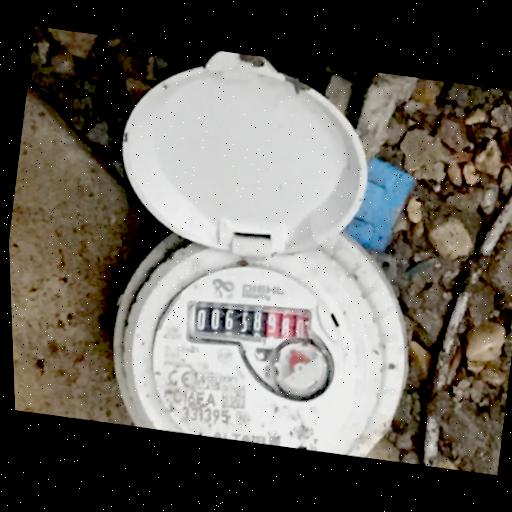0: (289, 312, 311, 341), (191, 305, 212, 334), (206, 306, 226, 334)
5: (234, 307, 254, 337)
6: (218, 306, 240, 335)
8: (248, 310, 270, 338), (276, 311, 295, 340)
9: (263, 311, 282, 339)
border_water_meter_number: (180, 289, 315, 356)
